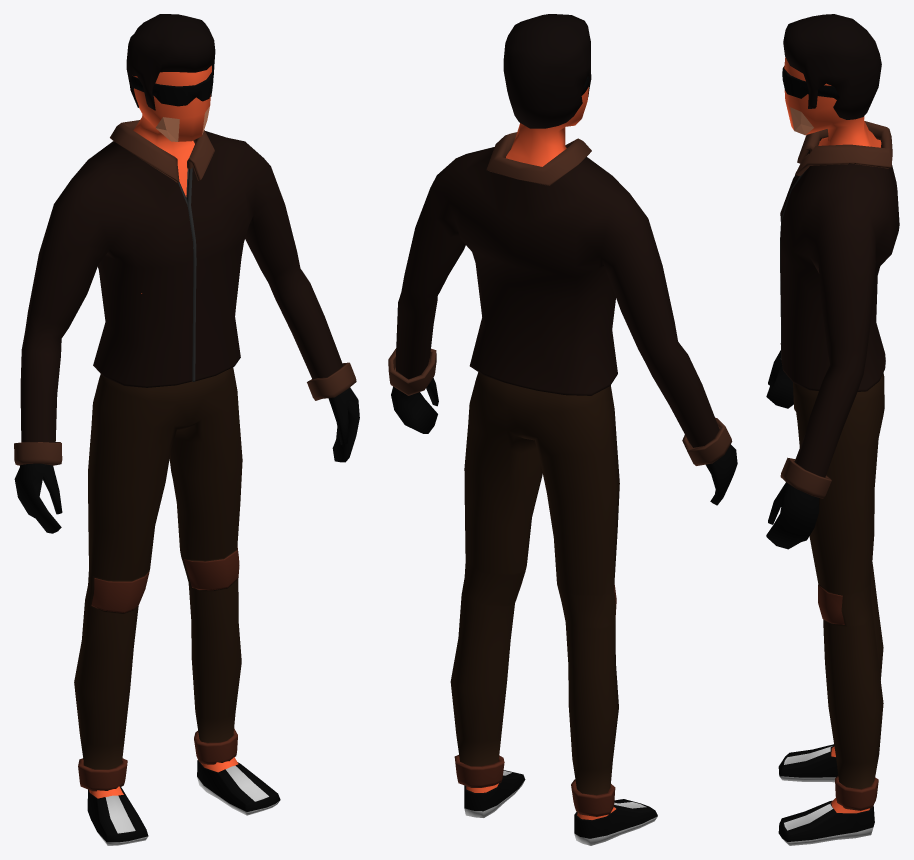
Rendered from CharacterLP.obj.
The picture shows the model from 3 angles, left to right: view 1: azimuth 30°, elevation 25°; view 2: azimuth 150°, elevation 25°; view 3: azimuth 270°, elevation 25°; orthographic projection.
Parts seen in each view (by area): view 1: Cube.006_Cube.008; view 2: Cube.006_Cube.008; view 3: Cube.006_Cube.008, Cube.006_Cube.000_Cube.006_Cube.001.
Boxes of the visible parts, box(x1,y1,x2,y2) form: Cube.006_Cube.008: box(14, 14, 359, 845); Cube.006_Cube.008: box(388, 14, 737, 845); Cube.006_Cube.008: box(766, 14, 899, 845); Cube.006_Cube.000_Cube.006_Cube.001: box(790, 107, 813, 134).
Bounding box in the file's own units: 0.7883 × 1.78 × 0.2739.
Materials: 12 (1 with a texture image).
